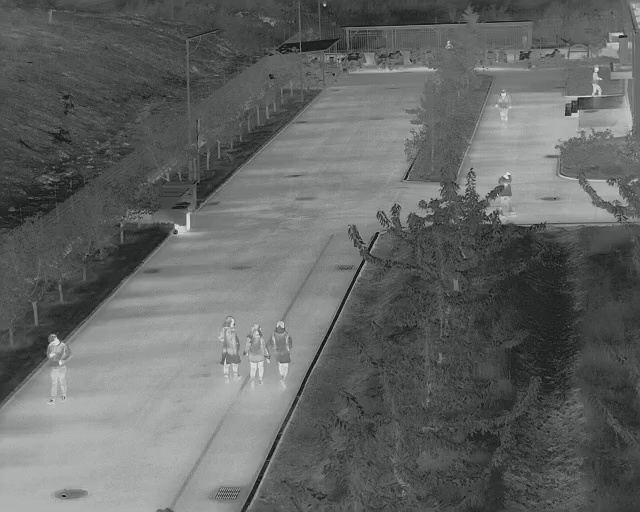person: (44, 334, 69, 404), (246, 324, 268, 387), (274, 322, 294, 391), (220, 316, 240, 378), (499, 170, 516, 218), (497, 89, 512, 125), (591, 66, 602, 96)
